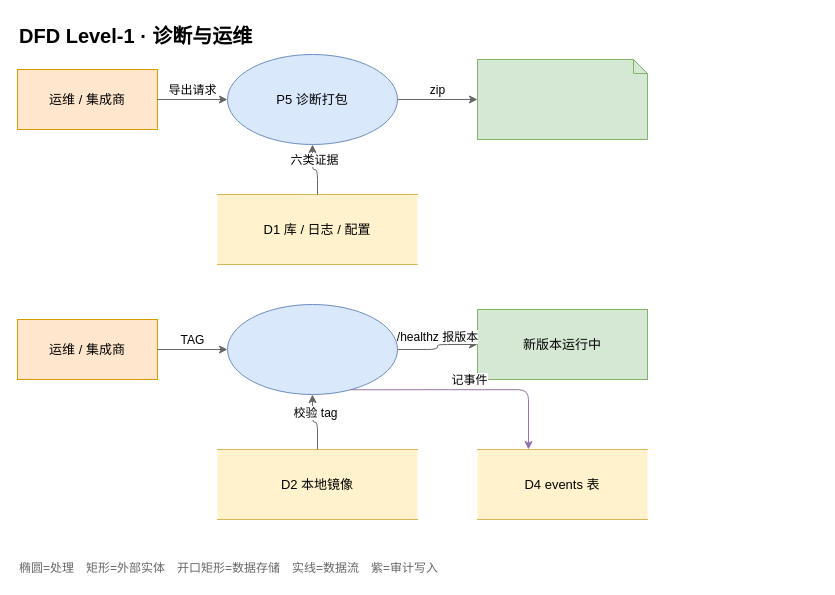
Some shapes in this 835 by 595 pixel diagram are drawn without their labels. Each missing label, with the centre of its shape:
"P6 版本切换" goes at pixel 312 349.
"诊断包 .zip" goes at pixel 562 99.
